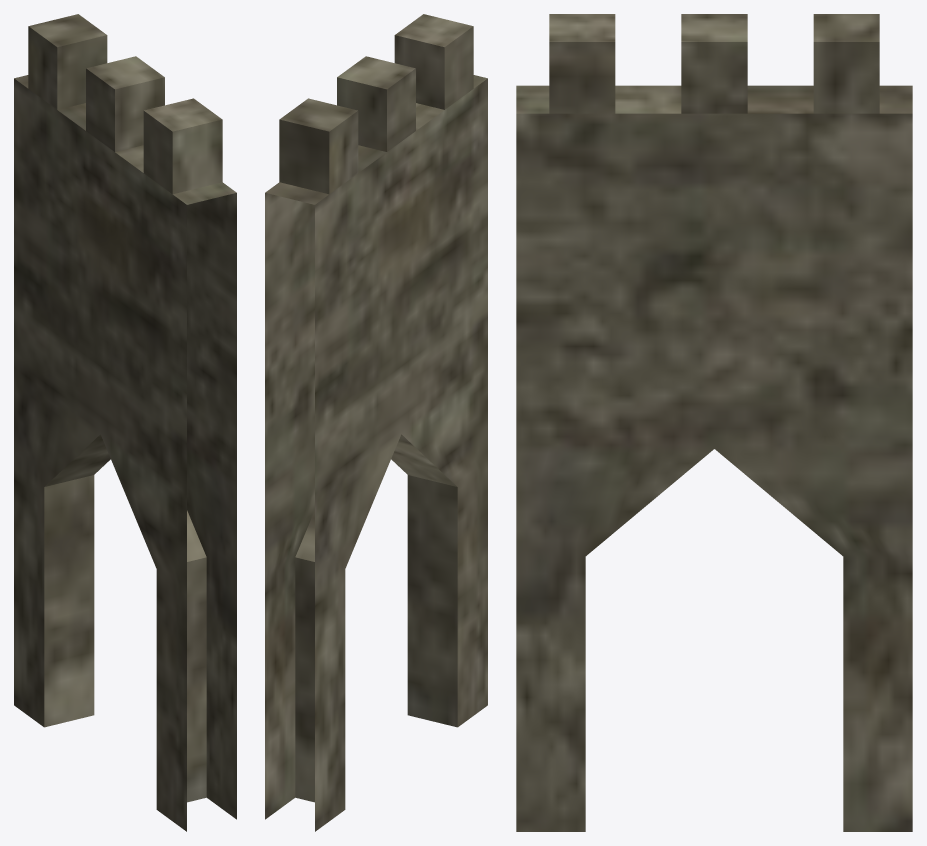
Rendered from Wall_Gate_Small.fbx.
3 renders of one model, left to right at view 1: azimuth 30°, elevation 25°; view 2: azimuth 150°, elevation 25°; view 3: azimuth 270°, elevation 25°, orthographic. The views are drawn at different scales.
Parts seen in each view (by area): view 1: Wall_Gate_Small; view 2: Wall_Gate_Small; view 3: Wall_Gate_Small.
Boxes of the visible parts, x1,y1,x2,y2 form: Wall_Gate_Small: (14,14,236,831); Wall_Gate_Small: (265,14,487,831); Wall_Gate_Small: (516,14,912,831).
Size of the model in its own units: 50 by 660 by 300.
